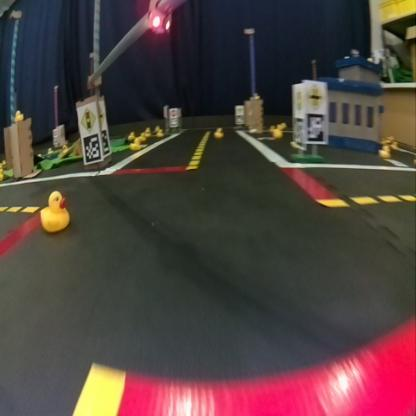Duckie: (40, 192, 67, 229), (379, 146, 388, 158), (214, 127, 220, 136), (16, 109, 22, 118), (132, 140, 138, 148), (273, 127, 278, 136), (156, 129, 161, 137)
Intersection sign: (304, 83, 325, 112)
QR code: (307, 114, 325, 144), (82, 135, 97, 158)
Signal sign: (76, 105, 97, 131)
Traffic light: (150, 0, 171, 34)
